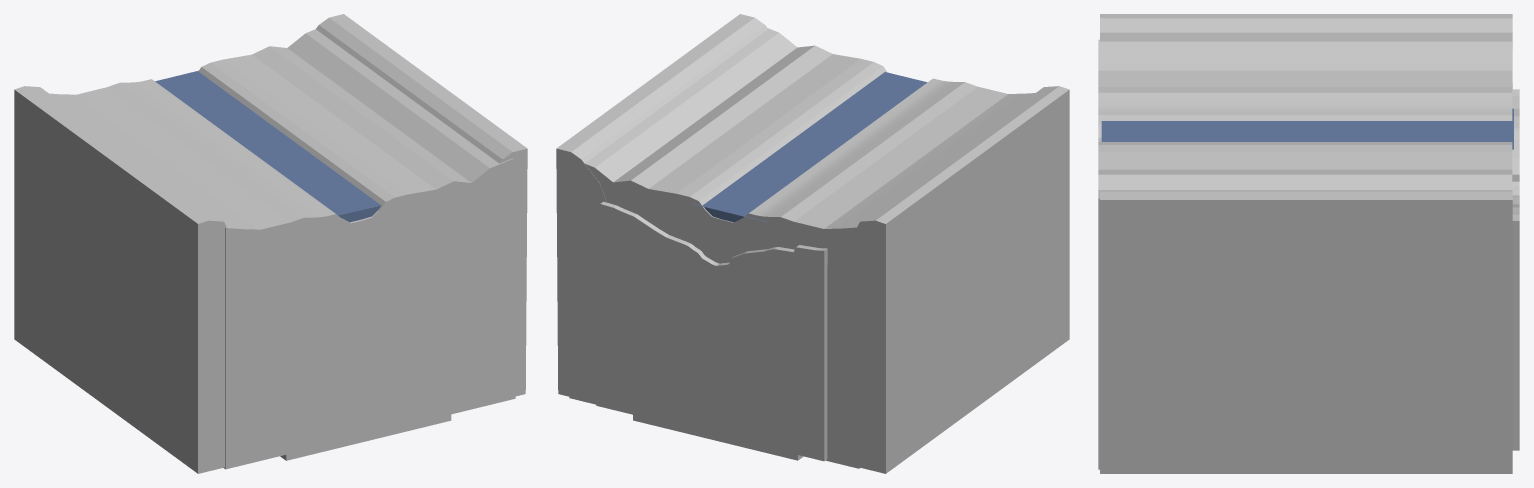
File: 堆积上叠阶地.gltf
3 views of the same model, side by side, from view 1: azimuth 30°, elevation 25°; view 2: azimuth 150°, elevation 25°; view 3: azimuth 270°, elevation 25° (orthographic). The views are drawn at different scales.
Visible parts, largest first — view 1: node_1_-8446, node_1_-7266, node_ (1)_-14416, node_3_-7550; view 2: node_1_-7266, node_1_-8446, node_2_-8578, node_ (1)_-14416, node_3_-7550; view 3: node_1_-7266, node_1_-8446, node_ (1)_-14416, node_2_-8578.
Part boxes in pixels (x1,y1,x2,y2): node_1_-8446: (49, 29, 515, 469); node_1_-7266: (14, 14, 527, 473); node_ (1)_-14416: (155, 70, 380, 215); node_3_-7550: (280, 414, 451, 460); node_1_-7266: (556, 14, 1069, 473); node_1_-8446: (569, 28, 1034, 468); node_2_-8578: (596, 201, 827, 461); node_ (1)_-14416: (692, 72, 927, 221); node_3_-7550: (633, 415, 803, 460); node_1_-7266: (1100, 14, 1512, 473); node_1_-8446: (1098, 39, 1512, 469); node_ (1)_-14416: (1101, 108, 1513, 149); node_2_-8578: (1512, 89, 1519, 450).
Bounding box in the file's own units: 5.61 × 4.22 × 5.53.
